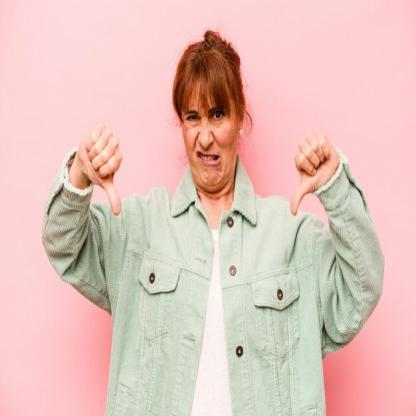thumb_down: (76, 117, 126, 218), (288, 126, 338, 221)
